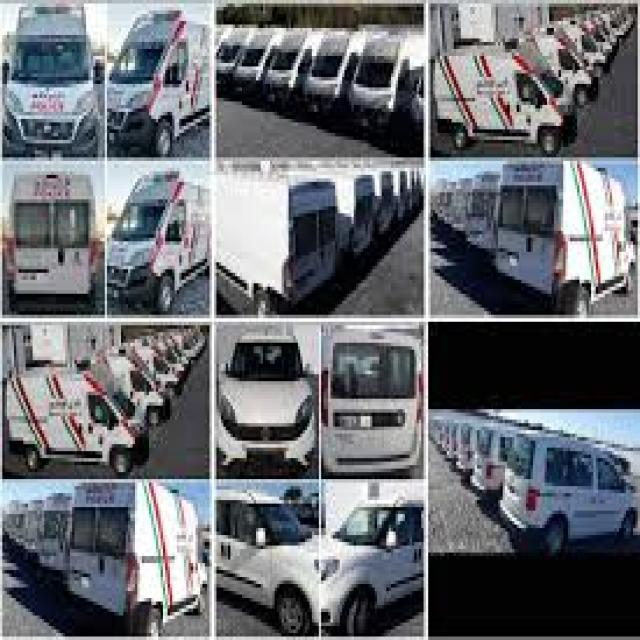police: (435, 14, 574, 152), (7, 363, 142, 473)
